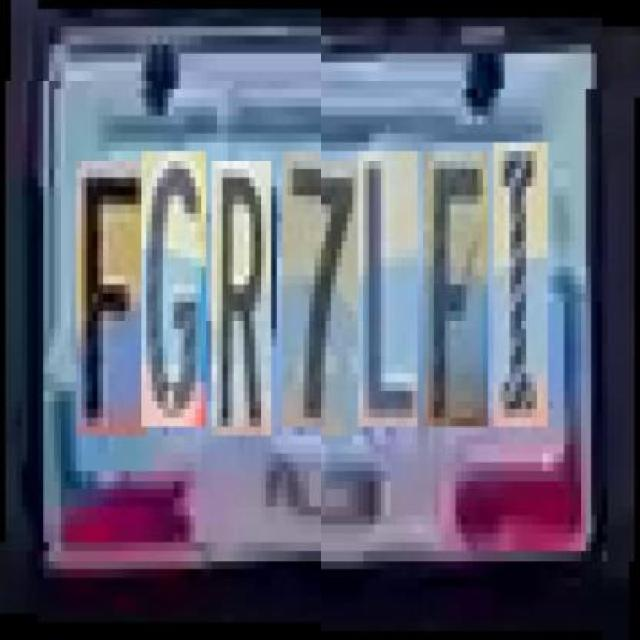7: (282, 150, 358, 428)
f: (76, 159, 146, 436), (423, 142, 488, 418)
g: (142, 150, 206, 428)
i: (494, 133, 548, 418)
l: (358, 142, 418, 418)
r: (212, 159, 272, 436)
